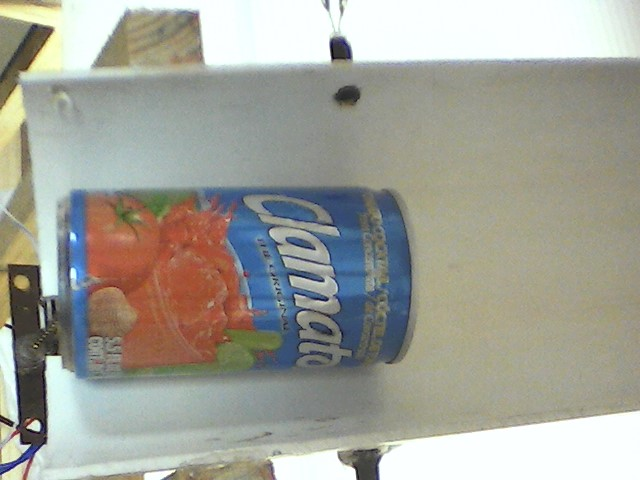lata: (53, 181, 424, 386)
